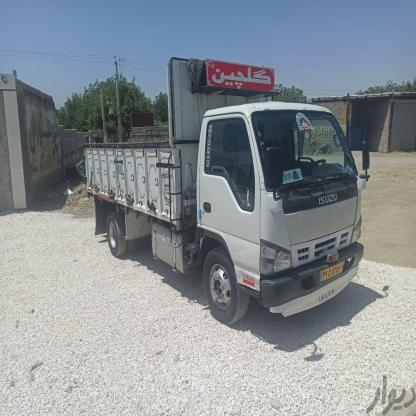Truck: (75, 62, 380, 331)
